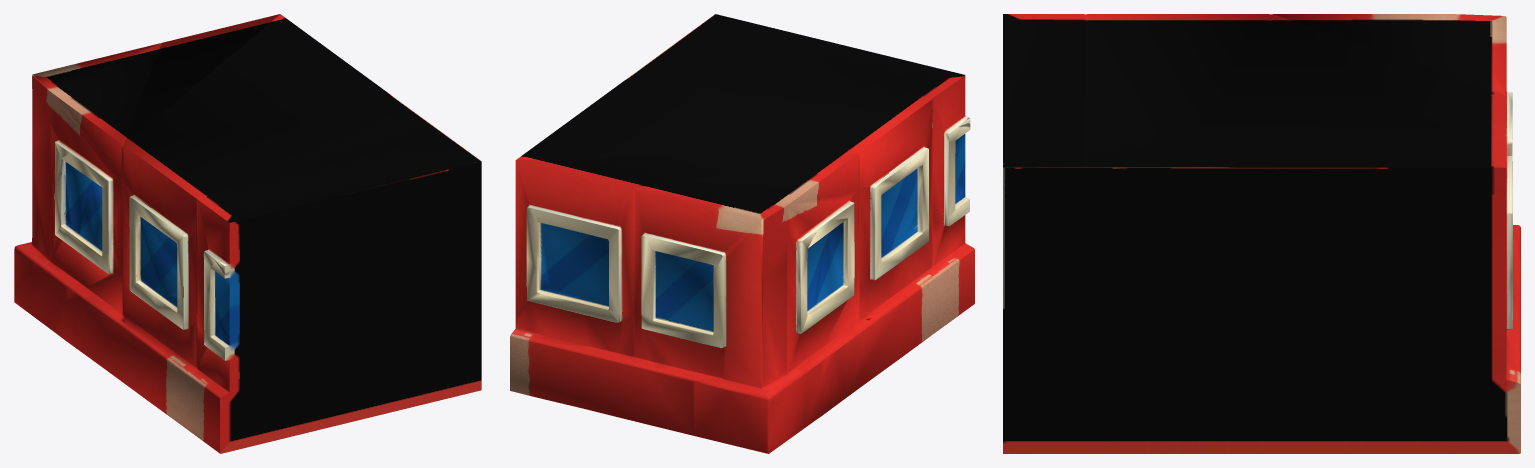
The model's file is 3-ground-floor-back-left.fbx.
3 views of the same model, side by side, from view 1: azimuth 30°, elevation 25°; view 2: azimuth 150°, elevation 25°; view 3: azimuth 270°, elevation 25° (orthographic). The views are drawn at different scales.
Parts seen in each view (by area): view 1: ground-floor-back-left; view 2: ground-floor-back-left; view 3: ground-floor-back-left.
Part boxes in pixels (x1,y1,x2,y2): ground-floor-back-left: (14, 14, 481, 453); ground-floor-back-left: (510, 14, 974, 453); ground-floor-back-left: (1003, 14, 1520, 453).
Bounding box in the file's own units: 4292 × 3585 × 5881.
Materials: 1 (1 with a texture image).
